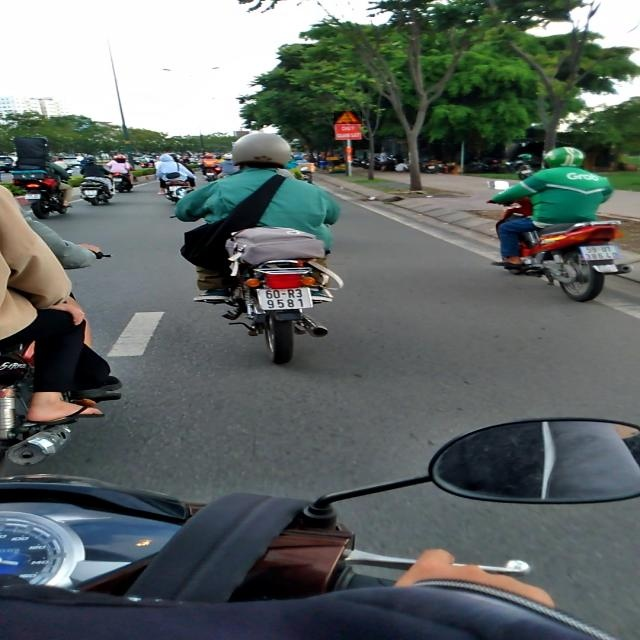bien_nguy_hiem: (334, 111, 362, 124)
